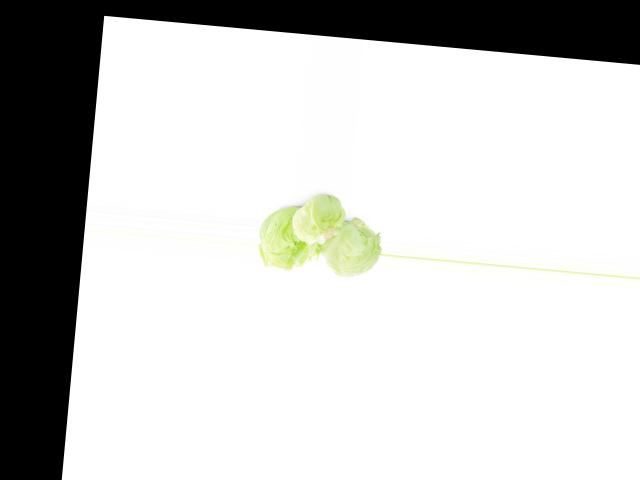lettuce: (259, 207, 316, 268)
